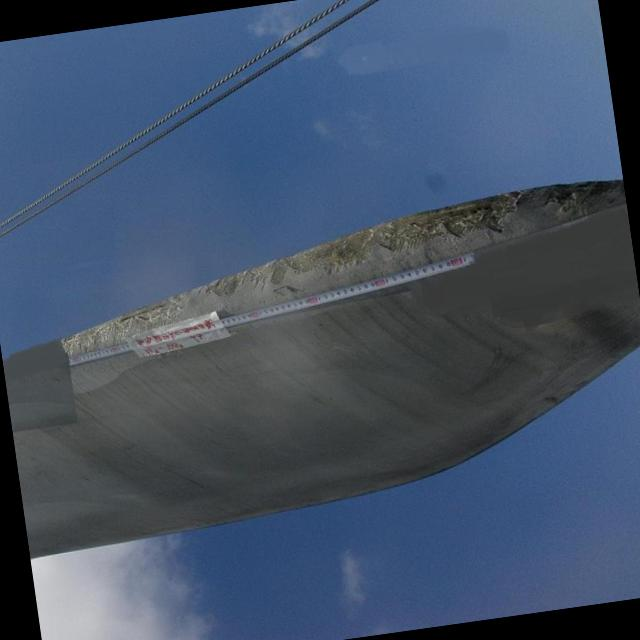corrosion: (322, 175, 623, 272), (64, 249, 326, 350)
